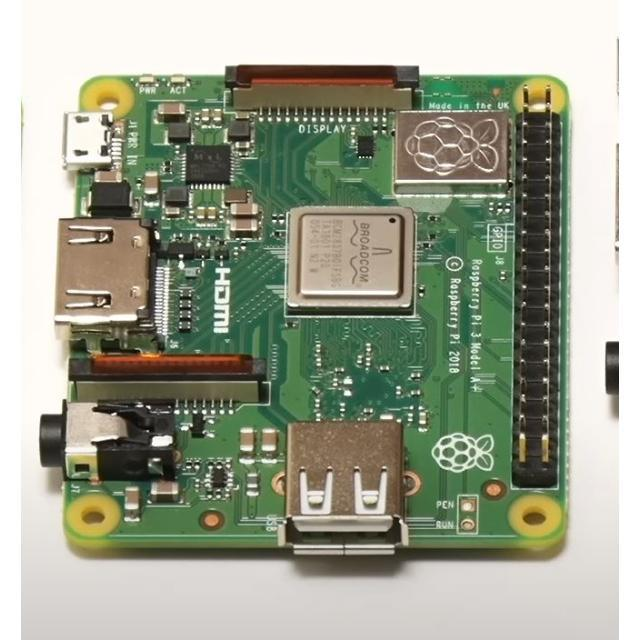Raspberry-Pi-3-A-: (41, 65, 572, 557)
